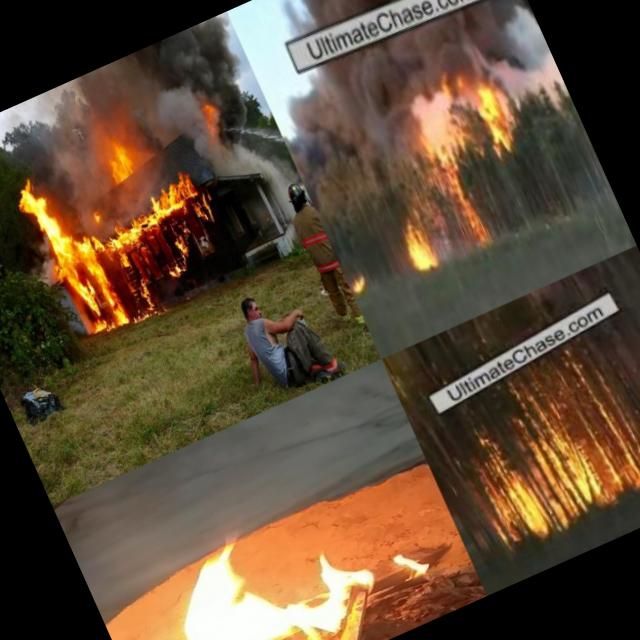fire: (127, 443, 421, 640), (444, 340, 640, 564), (34, 168, 245, 350), (406, 76, 553, 256), (9, 169, 72, 239), (390, 208, 448, 280), (94, 137, 140, 190), (194, 94, 228, 140), (342, 262, 376, 300)
smoke: (273, 13, 488, 159), (90, 38, 220, 192), (460, 0, 573, 130), (0, 73, 117, 181), (192, 113, 300, 210), (165, 12, 254, 102), (346, 112, 426, 184), (50, 148, 118, 222)
